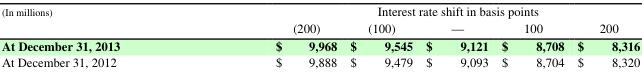table: (0, 1, 639, 69)
table column: (0, 1, 197, 69), (197, 1, 342, 69), (342, 1, 418, 69), (418, 1, 494, 69), (494, 1, 570, 69), (570, 1, 639, 69)
table column header: (0, 1, 639, 36)
table row: (0, 18, 639, 36), (0, 1, 639, 18), (0, 36, 639, 53), (0, 53, 639, 69)
table spanning cell: (197, 1, 639, 18), (0, 1, 197, 36)
